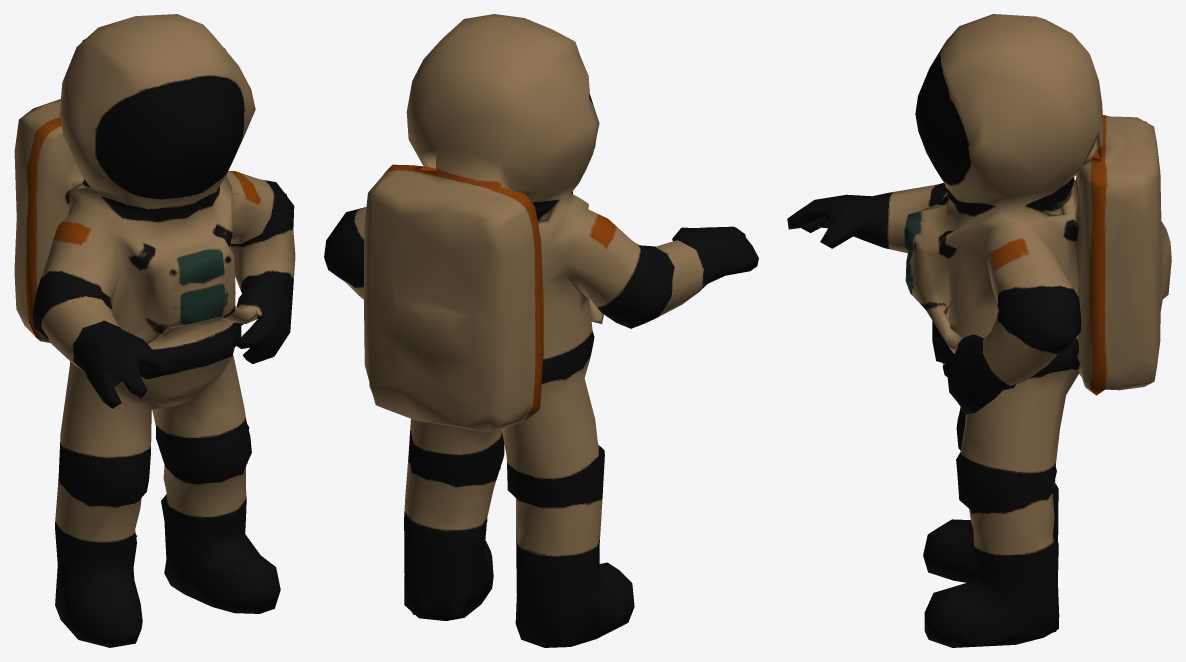
Rendered from figura-ukazyvaet-variant.glb.
3 renders of one model, left to right at view 1: azimuth 30°, elevation 25°; view 2: azimuth 150°, elevation 25°; view 3: azimuth 270°, elevation 25°, orthographic. The views are drawn at different scales.
Visible parts, largest first — view 1: geometry_0; view 2: geometry_0; view 3: geometry_0.
Part boxes in pixels (<box>): geometry_0: <box>14,14,295,647</box>; geometry_0: <box>324,14,758,647</box>; geometry_0: <box>787,14,1171,647</box>.
Size of the model in its own units: 0.551 by 1 by 0.6027.
1 material, 1 textured.
